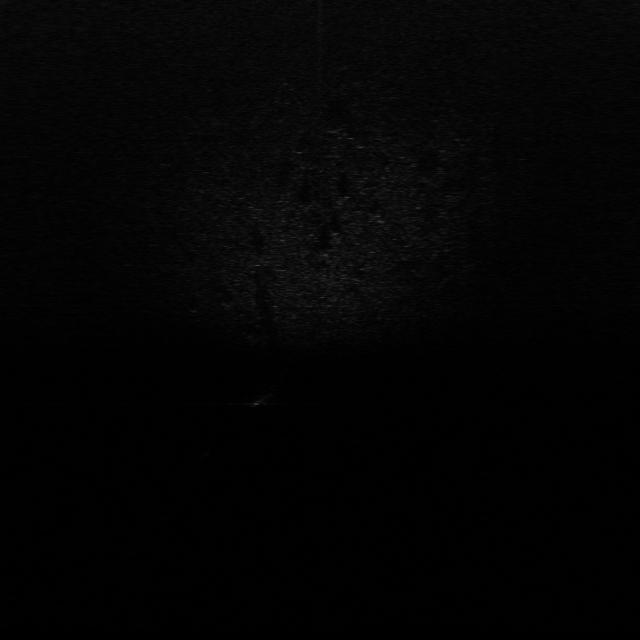human body: (237, 383, 286, 414)
